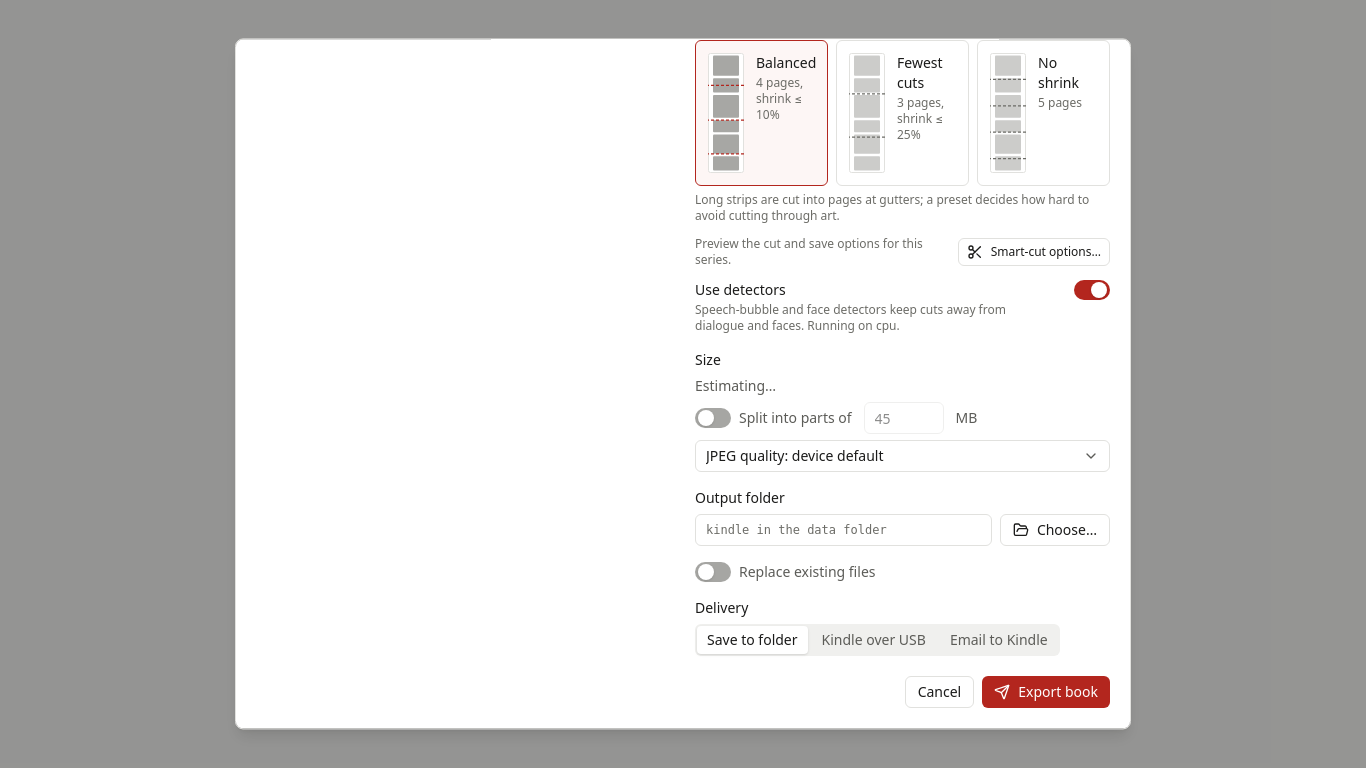
Scenario: export dialog: a written book over the email limit › holds a book that is only saved to the 200 MB web budget, not the email one
The image size is (1366, 768).
Later steps or results of the test are not shown.
(page scrolled)
Click the button "Export book".
click(1046, 692)  # box [982, 676, 1110, 708]
(page scrolled)
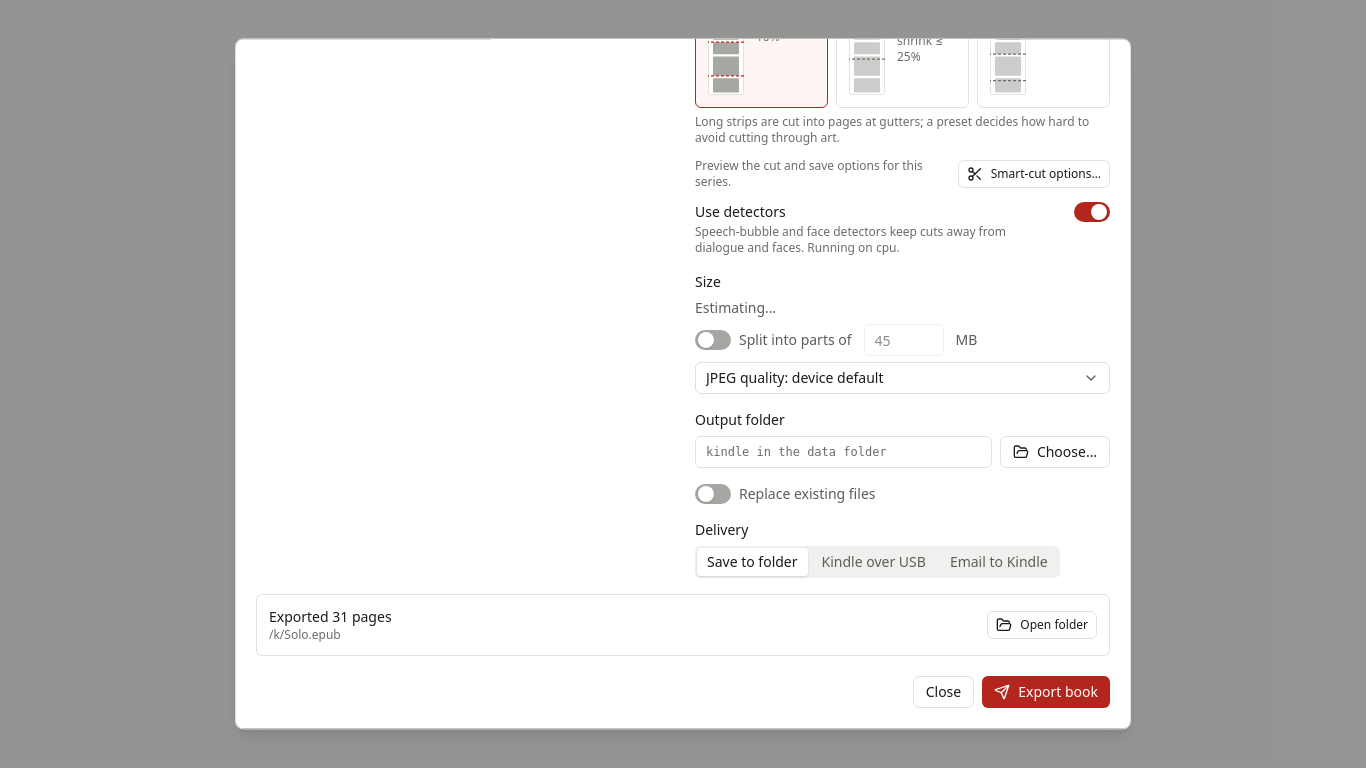
Check: the text "Too big" is not shown
Click the button "Export book".
click(1046, 692)  # box [982, 676, 1110, 708]
(page scrolled)
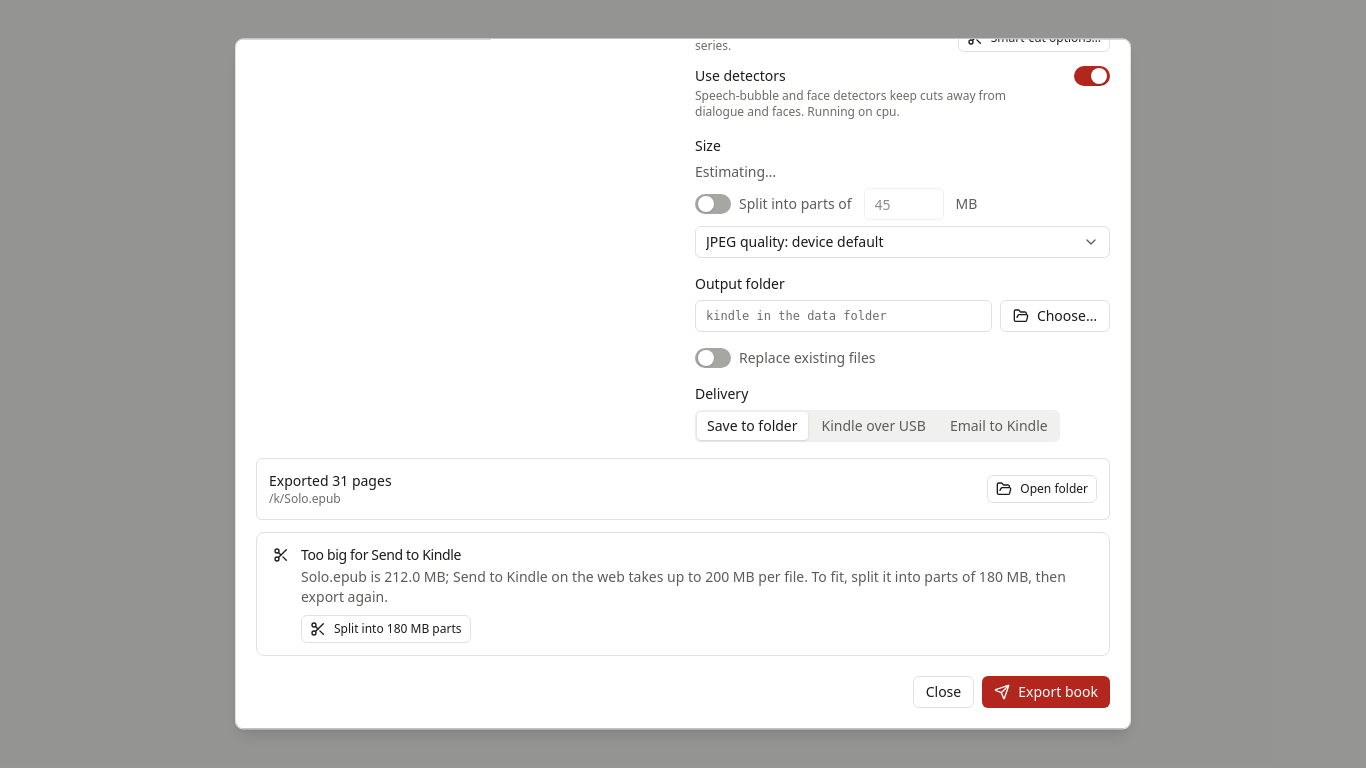
Check: the text "Too big for Send to Kindle" is shown, box [301, 545, 461, 564]
